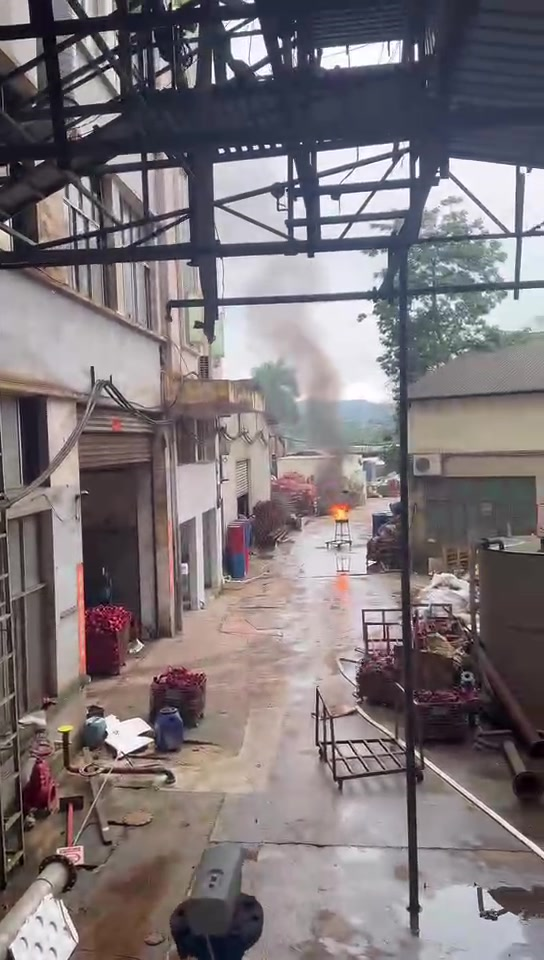fire: (330, 503, 351, 520)
